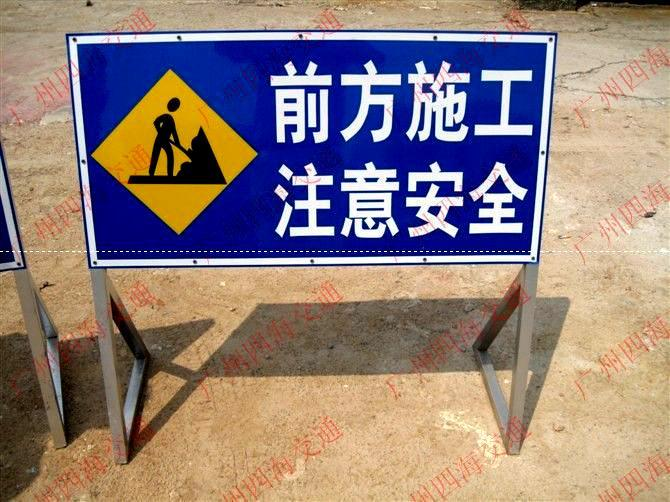sign: (64, 31, 558, 263)
